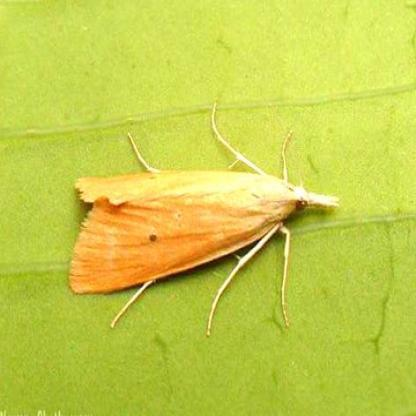stem-borer: (66, 155, 342, 306)
